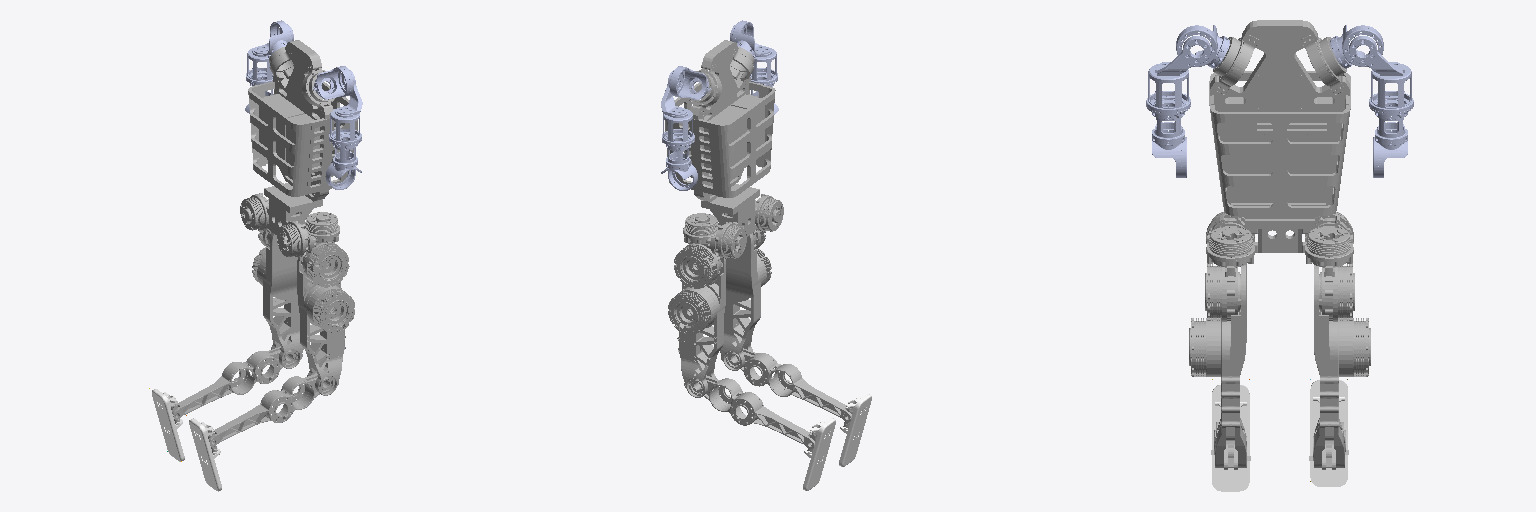
--- Facts derived from the render (not from the file) ---
Views: 3 orthographic renders of the robot side by side, from view 1: azimuth 30°, elevation 25°; view 2: azimuth 150°, elevation 25°; view 3: azimuth 270°, elevation 25°.
Robot: hunter — 28 links, 27 joints (18 revolute, 9 fixed); root link base_link; default pose: joints at zero except 2 at the middle of their limits (leg_l4_joint = 1.3, leg_r4_joint = 1.3).
Links seen in each view (by area): view 1: base_link, leg_r3_link, leg_l3_link, leg_l4_link, leg_r4_link, leg_r2_link, zarm_r2_link, leg_l6_link, leg_r6_link, zarm_r3_link, zarm_r1_link, leg_r1_link (+2 smaller); view 2: base_link, leg_l3_link, leg_r3_link, leg_l4_link, leg_r4_link, leg_l2_link, zarm_l2_Link, leg_l6_link, leg_r6_link, zarm_l3_Link, zarm_l1_Link, leg_l1_link (+2 smaller); view 3: base_link, leg_r3_link, leg_l3_link, zarm_r2_link, zarm_l2_Link, leg_r1_link, leg_l1_link, leg_r6_link, zarm_r3_link, zarm_l3_Link, leg_l2_link, leg_r2_link (+3 smaller).
Link boxes in pixels (<box>): base_link: <box>240,40,357,256</box>; leg_r3_link: <box>297,256,354,395</box>; leg_l3_link: <box>252,221,305,368</box>; leg_l4_link: <box>172,346,302,419</box>; leg_r4_link: <box>209,373,338,446</box>; leg_r2_link: <box>301,242,349,287</box>; zarm_r2_link: <box>329,70,362,146</box>; leg_l6_link: <box>152,389,184,461</box>; leg_r6_link: <box>189,418,221,491</box>; zarm_r3_link: <box>325,134,361,189</box>; zarm_r1_link: <box>313,66,353,99</box>; leg_r1_link: <box>305,212,339,247</box>; base_link: <box>665,40,783,258</box>; leg_l3_link: <box>668,258,725,397</box>; leg_r3_link: <box>718,223,771,370</box>; leg_l4_link: <box>684,375,814,448</box>; leg_r4_link: <box>721,348,851,421</box>; leg_l2_link: <box>674,243,721,288</box>; zarm_l2_Link: <box>661,70,694,146</box>; leg_l6_link: <box>803,418,835,490</box>; leg_r6_link: <box>839,394,871,466</box>; zarm_l3_Link: <box>661,135,697,190</box>; zarm_l1_Link: <box>669,66,710,99</box>; leg_l1_link: <box>683,213,717,248</box>; base_link: <box>1206,20,1353,252</box>; leg_r3_link: <box>1189,264,1246,467</box>; leg_l3_link: <box>1314,265,1370,467</box>; zarm_r2_link: <box>1146,36,1210,114</box>; zarm_l2_Link: <box>1349,36,1413,114</box>; leg_r1_link: <box>1206,226,1254,276</box>; leg_l1_link: <box>1305,226,1353,276</box>; leg_r6_link: <box>1212,385,1249,491</box>; zarm_r3_link: <box>1152,99,1186,177</box>; zarm_l3_Link: <box>1373,99,1407,177</box>; leg_l2_link: <box>1319,263,1354,321</box>; leg_r2_link: <box>1205,263,1240,321</box>.
Size in the robot's own frame: 0.5378 by 0.5706 by 1.27 metres.
19 mesh visuals loaded from 19 distinct referenced files (19 binary STL).

robot.urdf — hunter:
<?xml version="1.0" encoding="utf-8"?>
<robot name="hunter">

<!--  <link name="world" />-->
<!--  <joint name ="weld" type="fixed">-->
<!--    <parent link="world"/>-->
<!--    <child link="base_link"/>-->
<!--    <origin xyz="0 0 2.1"/>-->
<!--  </joint>-->

  <gazebo>
    <plugin name="gazebo_ros_control" filename="libhunter_bipedal_hw_sim.so">
      <robotNamespace>/</robotNamespace>
      <robotParam>legged_robot_description</robotParam>
      <robotSimType>legged_gazebo/LeggedHWSim</robotSimType>
    </plugin>
  </gazebo>

  <gazebo>
    <plugin filename="libgazebo_ros_p3d.so" name="p3d_base_controller">
      <alwaysOn>true</alwaysOn>
      <updateRate>500.0</updateRate>
      <bodyName>base_link</bodyName>
      <topicName>ground_truth/state</topicName>
      <gaussianNoise>0</gaussianNoise>
      <frameName>world</frameName>
      <xyzOffsets>0 0 0</xyzOffsets>
      <rpyOffsets>0 0 0</rpyOffsets>
    </plugin>
  </gazebo>

  <link name="base_link">
    <inertial>
      <origin
              xyz="-0.02983954 0.00086547 0.14856051"
              rpy="0 0 0" />
      <mass
              value="18.945426" />
      <inertia
              ixx="0.49280384"
              ixy="-0.00038292"
              ixz="-0.04951313"
              iyy="0.42814074"
              iyz="-0.00020145"
              izz="0.15555181" />
    </inertial>
    <visual>
      <origin xyz="0 0 0" rpy="0 0 0" />
      <geometry>
        <mesh
                filename="package://legged_hunter_description/meshes/base_link.STL" />
      </geometry>
      <material name="">
        <color rgba="0.75294 0.75294 0.75294 1" />
      </material>
    </visual>
    <collision>
      <origin xyz="-0.01 0 0.206" rpy="0 0 0" />
      <geometry>
        <box size="0.184 0.15 0.2" /><!--宽 长 高!-->
      </geometry>
    </collision>
  </link>

  <!-- Imu is fixed to the base link -->
  <joint name="imu_joint" type="fixed">
    <origin rpy="0. 0. 0." xyz="0. 0. 0"/>
    <parent link="base_link"/>
    <child link="imu_link"/>
  </joint>
  <!-- Imu link -->
  <link name="imu_link">
    <inertial>
      <mass value="0.01"/>
      <origin rpy="0 0 0" xyz="0 0 0"/>
      <inertia ixx="0.000001" ixy="0" ixz="0" iyy="0.000001" iyz="0" izz="0.000001"/>
    </inertial>
    <visual>
      <origin rpy="0 0 0" xyz="0 0 0"/>
      <geometry>
        <box size="0.015 0.015 0.004"/>
      </geometry>
    </visual>
    <material name="orange">
      <color rgba="255 108 10 255"/>
    </material>
  </link>
  <gazebo reference="imu_joint">
    <disableFixedJointLumping>true</disableFixedJointLumping>
  </gazebo>

  <!-- ************************************************************ -->
  <!-- ************************ Left Leg ************************** -->
  <!-- ************************************************************ -->

  <!-- ************* part 1 *************** -->
  <joint name="leg_l1_joint" type="revolute">
    <origin xyz="-0.08 0.105 -0.0675" rpy="0 0 0" />
    <parent link="base_link" />
    <child link="leg_l1_link" />
    <axis xyz="1 0 0" />
    <dynamics damping="0.00" friction="0.2"/>
    <limit lower="-0.5" upper="0.5" effort="300" velocity="18" />
  </joint>
  <link name="leg_l1_link">
    <inertial>
      <origin
              xyz="0.10000784 -0.00009881 0.01657766"
              rpy="0 0 0" />
      <mass
              value="1.54" />
      <inertia
              ixx="0.00139323"
              ixy="-0.00000019"
              ixz="-0.00000048"
              iyy="0.00140374"
              iyz="0.00000650"
              izz="0.00173658" />
    </inertial>
    <visual>
      <origin xyz="0 0 0" rpy="0 0 0" />
      <geometry>
        <mesh filename="package://legged_hunter_description/meshes/leg_l1_link.STL" />
      </geometry>
      <material name="">
        <color rgba="0.75294 0.75294 0.75294 1" />
      </material>
    </visual>
    <collision>
      <origin xyz="-0.019 -0.001 0" rpy="1.57 0 1.57" />
      <geometry>
        <box size="0.006 0.007 0.0155" />
      </geometry>
    </collision>
  </link>

  <!-- ************* part 2 *************** -->
  <joint name="leg_l2_joint" type="revolute">
    <origin xyz="0.080001 0 0" rpy="0 0 0" />
    <parent link="leg_l1_link" />
    <child link="leg_l2_link" />
    <axis xyz="0 0 1" />
    <dynamics damping="0.00" friction="0.2"/>
    <limit lower="-0.6" upper="0.6" effort="300" velocity="18" />
  </joint>
  <link name="leg_l2_link">
    <inertial>
      <origin
              xyz="0.00007811 0.00423442 -0.08994449"
              rpy="0 0 0" />
      <mass
              value="2.7" />
      <inertia
              ixx="0.00335768"
              ixy="-0.00001160"
              ixz="0.00000108"
              iyy="0.00323199"
              iyz="-0.00000465"
              izz="0.00335678" />
    </inertial>
    <visual>
      <origin xyz="0 0 0" rpy="0 0 0" />
      <geometry>
        <mesh filename="package://legged_hunter_description/meshes/leg_l2_link.STL" />
      </geometry>
      <material name="">
        <color rgba="0.75294 0.75294 0.75294 1" />
      </material>
    </visual>
    <collision>
      <origin xyz="0 0.0046 -0.057" rpy="1.57 0 0" />
      <geometry>
        <cylinder length="0.00146" radius="0.0025"/>
      </geometry>
    </collision>
  </link>

  <!-- ************* part 3 *************** -->
  <joint name="leg_l3_joint" type="revolute">
    <origin xyz="0 0 -0.090001" rpy="0 0 0" />
    <parent link="leg_l2_link" />
    <child link="leg_l3_link" />
    <axis xyz="0 1 0" />
    <dynamics damping="0.00" friction="0.2"/>
    <limit lower="-1.5" upper="0.5" effort="300" velocity="17" />
  </joint>
  <link name="leg_l3_link">
    <inertial>
      <origin
              xyz="0.00039619 0.04119274 -0.15289538"
              rpy="0 0 0" />
      <mass
              value="4.8" />
      <inertia
              ixx="0.04694541"
              ixy="0.00009678"
              ixz="0.00068599"
              iyy="0.04241315"
              iyz="-0.00410792"
              izz="0.01237341" />
    </inertial>
    <visual>
      <origin xyz="0 0 0" rpy="0 0 0" />
      <geometry>
        <mesh filename="package://legged_hunter_description/meshes/leg_l3_link.STL" />
      </geometry>
      <material name="">
        <color rgba="0.75294 0.75294 0.75294 1" />
      </material>
    </visual>
    <collision>
      <origin xyz="0.015 0.02 -0.1" rpy="1.57 0 0" />
      <geometry>
        <box size="0.006 0.025 0.005" />
      </geometry>
    </collision>
  </link>

  <!-- ************* part 4 *************** -->
  <joint name="leg_l4_joint" type="revolute">
    <origin xyz="0 0 -0.38" rpy="0 0 0" />
    <parent link="leg_l3_link" />
    <child link="leg_l4_link" />
    <axis xyz="0 1 0" />
    <dynamics damping="0.00" friction="0.2"/>
    <limit lower="0.1" upper="2.5" effort="300" velocity="17" />
  </joint>
  <link name="leg_l4_link">
    <inertial>
      <origin
              xyz="0.00066117 0.00034461 -0.14038088"
              rpy="0 0 0" />
      <mass
              value="2.9" />
      <inertia
              ixx="0.04319157"
              ixy="0.00000750"
              ixz="-0.00073877"
              iyy="0.04385624"
              iyz="0.00049349"
              izz="0.00190256" />
    </inertial>
    <visual>
      <origin xyz="0 0 0" rpy="0 0 0" />
      <geometry>
        <mesh filename="package://legged_hunter_description/meshes/leg_l4_link.STL" />
      </geometry>
      <material name="">
        <color rgba="0.75294 0.75294 0.75294 1" />
      </material>
    </visual>
    <collision>
      <origin xyz="0 0 -0.18" rpy="1.57 0 0" />
      <geometry>
        <box size="0.0041 0.025 0.003" />
      </geometry>
    </collision>
    <collision>
      <origin xyz="-0.011 0.012 -0.079" rpy="1.57 0 0" />
      <geometry>
        <cylinder length="0.007" radius="0.0034"/>
      </geometry>
    </collision>
  </link>

  <!-- ************* part 5 *************** -->
  <joint name="leg_l5_joint" type="revolute">
    <origin xyz="0 0 -0.38" rpy="0 0 0" />
    <parent link="leg_l4_link" />
    <child link="leg_l5_link" />
    <axis xyz="0 1 0" />
    <dynamics damping="0.02" friction="0.02"/>
    <limit lower="-1.5" upper="1.5" effort="300" velocity="15.49" />
  </joint>
  <link name="leg_l5_link">
    <inertial>
      <origin xyz="-0.00518023 0.00000000 -0.00246757" rpy="0 0 0" />
      <mass value="0.125" />
      <inertia ixx="0.00000749" ixy="0.00000000" ixz="-0.00000017" iyy="0.00006652" iyz="0.00000000" izz="0.00006206" />
    </inertial>
    <visual>
      <origin xyz="0 0 0" rpy="0 0 0" />
      <geometry>
        <mesh filename="package://legged_hunter_description/meshes/leg_l5_link.STL" />
      </geometry>
      <material name="">
        <color rgba="0.75294 0.75294 0.75294 1" />
      </material>
    </visual>
    <!--collision>
      <origin xyz="0.0 0 -0.0" rpy="1.57 0 0" />
      <geometry>
        <cylinder length="0.007" radius="0.001"/>
      </geometry>
    </collision-->
  </link>
  <!-- ************* part 6 *************** -->
  <joint name="leg_l6_joint" type="revolute">
    <origin xyz="0 0 0" rpy="0 0 0" />
    <parent link="leg_l5_link" />
    <child link="leg_l6_link" />
    <axis xyz="1 0 0" />
    <dynamics damping="0.02" friction="0.02"/>
    <limit lower="-1.5" upper="1.5" effort="300" velocity="15.49" />
  </joint>
  <link name="leg_l6_link">
    <inertial>
      <origin xyz="0.01218965 0.00000000 -0.01997971" rpy="0 0 0" />
      <mass value="0.56" />
      <inertia ixx="0.00030271" ixy="0.00000000" ixz="0.00012599" iyy="0.00193585" iyz="0.00000000" izz="0.00200345" />
    </inertial>
    <visual>
      <origin xyz="0 0 0" rpy="0 0 0" />
      <geometry>
        <mesh filename="package://legged_hunter_description/meshes/leg_l6_link.STL" />
      </geometry>
      <material name="">
        <color rgba="1 1 1 1" />
      </material>
    </visual>
    <collision>
      <origin xyz="0.03 0 -0.033" rpy="0 0 0" />
      <geometry>
        <box size="0.230 0.08 0.015" />
      </geometry>
    </collision>
  </link>
  <!-- ************* fixed joint & link *************** -->
  <joint name="leg_l6_fixed_1" type="fixed">
    <origin xyz="0.13 -0.04 -0.038" rpy="0 0 0" />
    <parent link="leg_l6_link" />
    <child link="leg_l_f1_link" />
  </joint>
  <link name="leg_l_f1_link">
    <inertial>
      <mass value="0.01" />
      <inertia ixx="0.000001" ixy="0" ixz="0" iyy="0.000001" iyz="0" izz="0.000001" />
    </inertial>
    <visual>
      <origin rpy="0 0 0" xyz="0 0 0"/>
      <geometry>
        <sphere radius="0.001"/>
      </geometry>
    </visual>
    <collision>
      <origin rpy="0 0 0" xyz="0 0 0"/>
      <geometry>
        <sphere radius="0.001"/>
      </geometry>
    </collision>
  </link>

  <joint name="leg_l6_fixed_2" type="fixed">
    <origin xyz="-0.09 -0.04 -0.038" rpy="0 0 0" />
    <parent link="leg_l6_link" />
    <child link="leg_l_f2_link" />
  </joint>
  <link name="leg_l_f2_link">
    <inertial>
      <mass value="0.01" />
      <inertia ixx="0.000001" ixy="0" ixz="0" iyy="0.000001" iyz="0" izz="0.000001" />
    </inertial>
    <visual>
      <origin rpy="0 0 0" xyz="0 0 0"/>
      <geometry>
        <sphere radius="0.001"/>
      </geometry>
    </visual>
    <collision>
      <origin rpy="0 0 0" xyz="-0 0 0"/>
      <geometry>
        <sphere radius="0.001"/>
      </geometry>
    </collision>
  </link>


  <joint name="leg_l6_fixed_3" type="fixed">
    <origin xyz="0.13 0.04 -0.038" rpy="0 0 0" />
    <parent link="leg_l6_link" />
    <child link="leg_l_f3_link" />
  </joint>
  <link name="leg_l_f3_link">
    <inertial>
      <mass value="0.01" />
      <inertia ixx="0.000001" ixy="0" ixz="0" iyy="0.000001" iyz="0" izz="0.000001" />
    </inertial>
    <visual>
      <origin rpy="0 0 0" xyz="0 0 0"/>
      <geometry>
        <sphere radius="0.001"/>
      </geometry>
    </visual>
    <collision>
      <origin rpy="0 0 0" xyz="0 0 0"/>
      <geometry>
        <sphere radius="0.001"/>
      </geometry>
    </collision>
  </link>

  <joint name="leg_l6_fixed_4" type="fixed">
    <origin xyz="-0.09 0.04 -0.038" rpy="0 0 0" />
    <parent link="leg_l6_link" />
    <child link="leg_l_f4_link" />
  </joint>
  <link name="leg_l_f4_link">
    <inertial>
      <mass value="0.01" />
      <inertia ixx="0.000001" ixy="0" ixz="0" iyy="0.000001" iyz="0" izz="0.000001" />
    </inertial>
    <visual>
      <origin rpy="0 0 0" xyz="0 0 0"/>
      <geometry>
        <sphere radius="0.001"/>
      </geometry>
    </visual>
    <collision>
      <origin rpy="0 0 0" xyz="-0 0 0"/>
      <geometry>
        <sphere radius="0.001"/>
      </geometry>
    </collision>
  </link>

  <!-- ************* gazebo reference *************** -->
  <gazebo reference="leg_l1_link">
    <mu1>0.6</mu1>
    <mu2>0.6</mu2>
    <self_collide>1</self_collide>
  </gazebo>
  <gazebo reference="leg_l2_link">
    <mu1>0.6</mu1>
    <mu2>0.6</mu2>
    <self_collide>1</self_collide>
  </gazebo>
  <gazebo reference="leg_l3_link">
    <mu1>0.6</mu1>
    <mu2>0.6</mu2>
    <self_collide>1</self_collide>
  </gazebo>
  <gazebo reference="leg_l4_link">
    <mu1>0.6</mu1>
    <mu2>0.6</mu2>
    <self_collide>1</self_collide>
  </gazebo>
  <gazebo reference="leg_l5_link">
    <mu1>0.6</mu1>
    <mu2>0.6</mu2>
  </gazebo>
  <gazebo reference="leg_l6_link">
    <mu1>1.5</mu1>
    <mu2>1.5</mu2>
    <self_collide>1</self_collide>
    <kp value="1000000.0"/>
    <kd value="100.0"/>
    <maxVel>1.0</maxVel>
    <minDepth>0.00</minDepth>
  </gazebo>
  <gazebo reference="leg_l_f1_link">
    <mu1>1.5</mu1>
    <mu2>1.5</mu2>
    <self_collide>1</self_collide>
    <kp value="1000000.0"/>
    <kd value="100.0"/>
    <maxVel>1.0</maxVel>
    <minDepth>0.00</minDepth>
  </gazebo>
  <gazebo reference="leg_l_f2_link">
    <mu1>1.5</mu1>
    <mu2>1.5</mu2>
    <self_collide>1</self_collide>
    <kp value="1000000.0"/>
    <kd value="100.0"/>
    <maxVel>1.0</maxVel>
    <minDepth>0.00</minDepth>
  </gazebo>
  <gazebo reference="leg_l_f3_link">
    <mu1>1.5</mu1>
    <mu2>1.5</mu2>
    <self_collide>1</self_collide>
    <kp value="1000000.0"/>
    <kd value="100.0"/>
    <maxVel>1.0</maxVel>
    <minDepth>0.00</minDepth>
  </gazebo>
  <gazebo reference="leg_l_f4_link">
    <mu1>1.5</mu1>
    <mu2>1.5</mu2>
    <self_collide>1</self_collide>
    <kp value="1000000.0"/>
    <kd value="100.0"/>
    <maxVel>1.0</maxVel>
    <minDepth>0.00</minDepth>
  </gazebo>

  <!-- ************* transmission *************** -->
  <transmission name="leg_l1_tran">
    <type>transmission_interface/SimpleTransmission</type>
    <joint name="leg_l1_joint">
      <hardwareInterface>hardware_interface/EffortJointInterface</hardwareInterface>
    </joint>
    <actuator name="leg_l1_motor">
      <hardwareInterface>hardware_interface/EffortJointInterface</hardwareInterface>
      <mechanicalReduction>1</mechanicalReduction>
      <maxVelocity>2.87</maxVelocity><!-- 85rpm -->
      <maxEffort>182</maxEffort><!-- 36Nm -->
    </actuator>
  </transmission>

  <transmission name="leg_l2_tran">
    <type>transmission_interface/SimpleTransmission</type>
    <joint name="leg_l2_joint">
      <hardwareInterface>hardware_interface/EffortJointInterface</hardwareInterface>
    </joint>
    <actuator name="leg_l2_motor">
      <hardwareInterface>hardware_interface/EffortJointInterface</hardwareInterface>
      <mechanicalReduction>1</mechanicalReduction>
      <maxVelocity>2.87</maxVelocity><!-- 160rpm -->
      <maxEffort>182</maxEffort><!-- 94Nm -->
    </actuator>
  </transmission>

  <transmission name="leg_l3_tran">
    <type>transmission_interface/SimpleTransmission</type>
    <joint name="leg_l3_joint">
      <hardwareInterface>hardware_interface/EffortJointInterface</hardwareInterface>
    </joint>
    <actuator name="leg_l3_motor">
      <hardwareInterface>hardware_interface/EffortJointInterface</hardwareInterface>
      <mechanicalReduction>1</mechanicalReduction>
      <maxVelocity>2.6545</maxVelocity><!-- 160rpm -->
      <maxEffort>278</maxEffort><!-- 94Nm -->
    </actuator>
  </transmission>

  <transmission name="leg_l4_tran">
    <type>transmission_interface/SimpleTransmission</type>
    <joint name="leg_l4_joint">
      <hardwareInterface>hardware_interface/EffortJointInterface</hardwareInterface>
    </joint>
    <actuator name="leg_l4_motor">
      <hardwareInterface>hardware_interface/EffortJointInterface</hardwareInterface>
      <mechanicalReduction>1</mechanicalReduction>
      <maxVelocity>2.6545</maxVelocity><!-- 85rpm -->
      <maxEffort>278</maxEffort><!-- 36Nm -->
    </actuator>
  </transmission>

  <transmission name="leg_l5_tran">
    <type>transmission_interface/SimpleTransmission</type>
    <joint name="leg_l5_joint">
      <hardwareInterface>hardware_interface/EffortJointInterface</hardwareInterface>
    </joint>
    <actuator name="leg_l5_motor">
      <hardwareInterface>hardware_interface/EffortJointInterface</hardwareInterface>
      <mechanicalReduction>1</mechanicalReduction>
    </actuator>
  </transmission>

  <transmission name="leg_l6_tran">
    <type>transmission_interface/SimpleTransmission</type>
    <joint name="leg_l6_joint">
      <hardwareInterface>hardware_interface/EffortJointInterface</hardwareInterface>
    </joint>
    <actuator name="leg_l6_motor">
      <hardwareInterface>hardware_interface/EffortJointInterface</hardwareInterface>
      <mechanicalReduction>1</mechanicalReduction>
    </actuator>
  </transmission>
  <!-- ************************************************************ -->
  <!-- ************************ Right Leg ************************** -->
  <!-- ************************************************************ -->

  <!-- ************* part 1 *************** -->
  <joint name="leg_r1_joint" type="revolute">
    <origin xyz="-0.08 -0.105 -0.0675" rpy="0 0 0" />
    <parent link="base_link" />
    <child link="leg_r1_link" />
    <axis xyz="1 0 0" />
    <dynamics damping="0.00" friction="0.2"/>
    <limit lower="-0.5" upper="0.5" effort="300" velocity="18" />
  </joint>
  <link name="leg_r1_link">
    <inertial>
      <origin
              xyz="0.07867925 -0.00007201 0.00877160"
              rpy="0 0 0" />
      <mass
              value="1.54" />
      <inertia
              ixx="0.00139323"
              ixy="-0.00000019"
              ixz="0.00000048"
              iyy="0.00140374"
              iyz="-0.00000650"
              izz="0.00173658" />
    </inertial>
    <visual>
      <origin xyz="0 0 0" rpy="0 0 0" />
      <geometry>
        <mesh filename="package://legged_hunter_description/meshes/leg_r1_link.STL" />
      </geometry>
      <material name="">
        <color rgba="0.75294 0.75294 0.75294 1" />
      </material>
    </visual>
    <collision>
      <origin xyz="-0.019 -0.001 0" rpy="1.57 0 1.57" />
      <geometry>
        <box size="0.006 0.007 0.0155" />
      </geometry>
    </collision>
  </link>

  <!-- ************* part 2 *************** -->
  <joint name="leg_r2_joint" type="revolute">
    <origin xyz="0.080001 0 0" rpy="0 0 0" />
    <parent link="leg_r1_link" />
    <child link="leg_r2_link" />
    <axis xyz="0 0 1" />
    <dynamics damping="0.00" friction="0.2"/>
    <limit lower="-0.6" upper="0.6" effort="300" velocity="18" />
  </joint>
  <link name="leg_r2_link">
    <inertial>
      <origin
              xyz="-0.00007811 -0.00423442 -0.15499595"
              rpy="0 0 0" />
      <mass
              value="2.7" />
      <inertia
              ixx="0.00335768"
              ixy="-0.00001160"
              ixz="-0.00000108"
              iyy="0.00323199"
              iyz="0.00000465"
              izz="0.00335678" />
    </inertial>
    <visual>
      <origin xyz="0 0 0" rpy="0 0 0" />
      <geometry>
        <mesh filename="package://legged_hunter_description/meshes/leg_r2_link.STL" />
      </geometry>
      <material name="">
        <color rgba="0.75294 0.75294 0.75294 1" />
      </material>
    </visual>
    <collision>
      <origin xyz="0 -0.0033 -0.057" rpy="1.57 0 0" />
      <geometry>
        <cylinder length="0.00146" radius="0.0015"/>
      </geometry>
    </collision>
  </link>

  <!-- ************* part 3 *************** -->
  <joint name="leg_r3_joint" type="revolute">
    <origin xyz="0 0 -0.090001" rpy="0 0 0" />
    <parent link="leg_r2_link" />
    <child link="leg_r3_link" />
    <axis xyz="0 1 0" />
    <dynamics damping="0.00" friction="0.2"/>
    <limit lower="-1.5" upper="0.5" effort="300" velocity="17" />
  </joint>
  <link name="leg_r3_link">
    <inertial>
      <origin
              xyz="0.00044061 -0.04113251 -0.15499595"
              rpy="0 0 0" />
      <mass
              value="4.8" />
      <inertia
              ixx="0.04859117"
              ixy="-0.00008785"
              ixz="0.00069103"
              iyy="0.04399962"
              iyz="0.00445708"
              izz="0.01238287" />
    </inertial>
    <visual>
      <origin xyz="0 0 0" rpy="0 0 0" />
      <geometry>
        <mesh filename="package://legged_hunter_description/meshes/leg_r3_link.STL" />
      </geometry>
      <material name="">
        <color rgba="0.75294 0.75294 0.75294 1" />
      </material>
    </visual>
    <collision>
      <origin xyz="0.015 -0.02 -0.1" rpy="1.57 0 0" />
      <geometry>
        <box size="0.006 0.025 0.005" />
      </geometry>
    </collision>
  </link>

  <!-- ************* part 4 *************** -->
  <joint name="leg_r4_joint" type="revolute">
    <origin xyz="0 0 -0.38" rpy="0 0 0" />
    <parent link="leg_r3_link" />
    <child link="leg_r4_link" />
    <axis xyz="0 1 0" />
    <dynamics damping="0.00" friction="0.2"/>
    <limit lower="0.1" upper="2.5" effort="300" velocity="17" />
  </joint>
  <link name="leg_r4_link">
    <inertial>
      <origin
              xyz="0.00066117 -0.00034461 -0.14038088"
              rpy="0 0 0" />
      <mass
              value="2.9" />
      <inertia
              ixx="0.04319157"
              ixy="-0.00000750"
              ixz="-0.00073877"
              iyy="0.04385624"
              iyz="-0.00049349"
              izz="0.00190256" />
    </inertial>
    <visual>
      <origin xyz="0 0 0" rpy="0 0 0" />
      <geometry>
        <mesh filename="package://legged_hunter_description/meshes/leg_r4_link.STL" />
      </geometry>
      <material name="">
        <color rgba="0.75294 0.75294 0.75294 1" />
      </material>
    </visual>
    <collision>
      <origin xyz="0 0 -0.18" rpy="1.57 0 0" />
      <geometry>
        <box size="0.0041 0.025 0.003" />
      </geometry>
    </collision>
    <collision>
      <origin xyz="-0.011 -0.012 -0.079" rpy="1.57 0 0" />
      <geometry>
        <cylinder length="0.07" radius="0.034"/>
      </geometry>
    </collision>
  </link>

  <!-- ************* part 5 *************** -->
  <joint name="leg_r5_joint" type="revolute">
    <origin xyz="0 0 -0.38" rpy="0 0 0" />
    <parent link="leg_r4_link" />
    <child link="leg_r5_link" />
    <axis xyz="0 1 0" />
    <dynamics damping="0.02" friction="0.02"/>
    <limit lower="-1.5" upper="1.5" effort="300" velocity="15.49" />
  </joint>
  <link name="leg_r5_link">
    <inertial>
      <origin xyz="-0.00518023 0.000000 -0.00246757" rpy="0 0 0" />
      <mass value="0.125" />
      <inertia ixx="0.00000749" ixy="0.00000000" ixz="-0.00000017" iyy="0.00006652" iyz="0.00000000" izz="0.00006206" />
    </inertial>
    <visual>
      <origin xyz="0 0 0" rpy="0 0 0" />
      <geometry>
        <mesh filename="package://legged_hunter_description/meshes/leg_r5_link.STL" />
      </geometry>
      <material name="">
        <color rgba="0.75294 0.75294 0.75294 1" />
      </material>
    </visual>
    <!--collision>
      <origin xyz="0.0 0 -0.0" rpy="1.57 0 0" />
      <geometry>
        <cylinder length="0.007" radius="0.001"/>
      </geometry>
    </collision-->
  </link>


  <!-- ************* part 6 *************** -->

  <joint name="leg_r6_joint" type="revolute">
    <origin xyz="0 0 0" rpy="0 0 0" />
    <parent link="leg_r5_link" />
    <child link="leg_r6_link" />
    <axis xyz="1 0 0" />
    <dynamics damping="0.02" friction="0.02"/>
    <limit lower="-1.5" upper="1.5" effort="300" velocity="15.49" />
  </joint>
  <link name="leg_r6_link">
    <inertial>
      <origin xyz="0.01218965 0.00000000 -0.01997971" rpy="0 0 0" />
      <mass value="0.56" />
      <inertia ixx="0.00030271" ixy="0.00000000" ixz="0.00012599" iyy="0.00193585" iyz="0.00000000" izz="0.00200345" />
    </inertial>
    <visual>
      <origin xyz="0 0 0" rpy="0 0 0" />
      <geometry>
        <mesh filename="package://legged_hunter_description/meshes/leg_r6_link.STL" />
      </geometry>
      <material name="">
        <color rgba="1 1 1 1" />
      </material>
    </visual>
    <collision>
      <origin xyz="0.03 0 -0.033" rpy="0 0 0" />
      <geometry>
        <box size="0.230 0.08 0.015" />
      </geometry>
    </collision>
  </link>

  <!-- ************* fixed joint *************** -->
  <joint name="leg_r6_fixed_1" type="fixed">
    <origin xyz="0.13 -0.04 -0.038" rpy="0 0 0" />
    <parent link="leg_r6_link" />
    <child link="leg_r_f1_link" />
  </joint>
  <link name="leg_r_f1_link">
    <inertial>
      <mass value="0.01" />
      <inertia ixx="0.000001" ixy="0" ixz="0" iyy="0.000001" iyz="0" izz="0.000001" />
    </inertial>
    <visual>
      <origin rpy="0 0 0" xyz="0 0 0"/>
      <geometry>
        <sphere radius="0.001"/>
      </geometry>
    </visual>
    <collision>
      <origin rpy="0 0 0" xyz="0 0 0"/>
      <geometry>
        <sphere radius="0.001"/>
      </geometry>
    </collision>
  </link>

  <joint name="leg_r6_fixed_2" type="fixed">
    <origin xyz="-0.090 -0.04 -0.038" rpy="0 0 0" />
    <parent link="leg_r6_link" />
    <child link="leg_r_f2_link" />
  </joint>
  <link name="leg_r_f2_link">
    <inertial>
      <mass value="0.01" />
      <inertia ixx="0.000001" ixy="0" ixz="0" iyy="0.000001" iyz="0" izz="0.000001" />
    </inertial>
    <visual>
      <origin rpy="0 0 0" xyz="0 0 0"/>
      <geometry>
        <sphere radius="0.001"/>
      </geometry>
    </visual>
    <collision>
      <origin rpy="0 0 0" xyz="0 0 0"/>
      <geometry>
        <sphere radius="0.001"/>
      </geometry>
    </collision>
  </link>

  <joint name="leg_r6_fixed_3" type="fixed">
    <origin xyz="0.13 0.04 -0.038" rpy="0 0 0" />
    <parent link="leg_r6_link" />
    <child link="leg_r_f3_link" />
  </joint>
  <link name="leg_r_f3_link">
    <inertial>
      <mass value="0.01" />
      <inertia ixx="0.000001" ixy="0" ixz="0" iyy="0.000001" iyz="0" izz="0.000001" />
    </inertial>
    <visual>
      <origin rpy="0 0 0" xyz="0 0 0"/>
      <geometry>
        <sphere radius="0.001"/>
      </geometry>
    </visual>
    <collision>
      <origin rpy="0 0 0" xyz="0 0 0"/>
      <geometry>
        <sphere radius="0.001"/>
      </geometry>
    </collision>
  </link>

  <joint name="leg_r6_fixed_4" type="fixed">
    <origin xyz="-0.090 0.04 -0.038" rpy="0 0 0" />
    <parent link="leg_r6_link" />
    <child link="leg_r_f4_link" />
  </joint>
  <link name="leg_r_f4_link">
    <inertial>
      <mass value="0.01" />
      <inertia ixx="0.000001" ixy="0" ixz="0" iyy="0.000001" iyz="0" izz="0.000001" />
    </inertial>
    <visual>
      <origin rpy="0 0 0" xyz="0 0 0"/>
      <geometry>
        <sphere radius="0.001"/>
      </geometry>
    </visual>
    <collision>
      <origin rpy="0 0 0" xyz="0 0 0"/>
      <geometry>
        <sphere radius="0.001"/>
      </geometry>
    </collision>
  </link>


  <!-- ************* gazebo reference *************** -->
  <gazebo reference="leg_r1_link">
    <mu1>0.6</mu1>
    <mu2>0.6</mu2>
    <self_collide>1</self_collide>
  </gazebo>
  <gazebo reference="leg_r2_link">
    <mu1>0.6</mu1>
    <mu2>0.6</mu2>
    <self_collide>1</self_collide>
  </gazebo>
  <gazebo reference="leg_r3_link">
    <mu1>0.6</mu1>
    <mu2>0.6</mu2>
    <self_collide>1</self_collide>
  </gazebo>
  <gazebo reference="leg_r4_link">
    <mu1>0.6</mu1>
    <mu2>0.6</mu2>
    <self_collide>1</self_collide>
  </gazebo>
  <gazebo reference="leg_r5_link">
    <mu1>0.6</mu1>
    <mu2>0.6</mu2>
  </gazebo>
  <gazebo reference="leg_r6_link">
    <mu1>1.5</mu1>
    <mu2>1.5</mu2>
    <self_collide>1</self_collide>
    <kp value="1000000.0"/>
    <kd value="100.0"/>
    <maxVel>1.0</maxVel>
    <minDepth>0.00</minDepth>
  </gazebo>

  <gazebo reference="leg_r_f1_link">
    <mu1>1.5</mu1>
    <mu2>1.5</mu2>
    <self_collide>1</self_collide>
    <kp value="1000000.0"/>
    <kd value="100.0"/>
    <maxVel>1.0</maxVel>
    <minDepth>0.00</minDepth>
  </gazebo>
  <gazebo reference="leg_r_f2_link">
    <mu1>1.5</mu1>
    <mu2>1.5</mu2>
    <self_collide>1</self_collide>
    <kp value="1000000.0"/>
    <kd value="100.0"/>
    <maxVel>1.0</maxVel>
    <minDepth>0.00</minDepth>
  </gazebo>
  <gazebo reference="leg_r_f3_link">
    <mu1>1.5</mu1>
    <mu2>1.5</mu2>
    <self_collide>1</self_collide>
    <kp value="1000000.0"/>
    <kd value="100.0"/>
    <maxVel>1.0</maxVel>
    <minDepth>0.00</minDepth>
  </gazebo>
  <gazebo reference="leg_r_f4_link">
    <mu1>1.5</mu1>
    <mu2>1.5</mu2>
    <self_collide>1</self_collide>
    <kp value="1000000.0"/>
    <kd value="100.0"/>
    <maxVel>1.0</maxVel>
    <minDepth>0.00</minDepth>
  </gazebo>


  <!-- ************* gazebo transmission *************** -->
  <transmission name="leg_r1_tran">
    <type>transmission_interface/SimpleTransmission</type>
    <joint name="leg_r1_joint">
      <hardwareInterface>hardware_interface/EffortJointInterface</hardwareInterface>
    </joint>
    <actuator name="leg_r1_motor">
      <hardwareInterface>hardware_interface/EffortJointInterface</hardwareInterface>
      <mechanicalReduction>1</mechanicalReduction>
      <maxVelocity>2.87</maxVelocity><!-- 85rpm -->
      <maxEffort>182</maxEffort><!-- 36Nm -->
    </actuator>
  </transmission>

  <transmission name="leg_r2_tran">
    <type>transmission_interface/SimpleTransmission</type>
    <joint name="leg_r2_joint">
      <hardwareInterface>hardware_interface/EffortJointInterface</hardwareInterface>
    </joint>
    <actuator name="leg_r2_motor">
      <hardwareInterface>hardware_interface/EffortJointInterface</hardwareInterface>
      <mechanicalReduction>1</mechanicalReduction>
      <maxVelocity>2.87</maxVelocity><!-- 160rpm -->
      <maxEffort>182</maxEffort><!-- 94Nm -->
    </actuator>
  </transmission>

  <transmission name="leg_r3_tran">
    <type>transmission_interface/SimpleTransmission</type>
    <joint name="leg_r3_joint">
      <hardwareInterface>hardware_interface/EffortJointInterface</hardwareInterface>
    </joint>
    <actuator name="leg_r3_motor">
      <hardwareInterface>hardware_interface/EffortJointInterface</hardwareInterface>
      <mechanicalReduction>1</mechanicalReduction>
      <maxVelocity>2.6545</maxVelocity><!-- 160rpm -->
      <maxEffort>278</maxEffort><!-- 94Nm -->
    </actuator>
  </transmission>

  <transmission name="leg_r4_tran">
    <type>transmission_interface/SimpleTransmission</type>
    <joint name="leg_r4_joint">
      <hardwareInterface>hardware_interface/EffortJointInterface</hardwareInterface>
    </joint>
    <actuator name="leg_r4_motor">
      <hardwareInterface>hardware_interface/EffortJointInterface</hardwareInterface>
      <mechanicalReduction>1</mechanicalReduction>
      <maxVelocity>2.6545</maxVelocity><!-- 85rpm -->
      <maxEffort>278</maxEffort><!-- 36Nm -->
    </actuator>
  </transmission>

  <transmission name="leg_r5_tran">
    <type>transmission_interface/SimpleTransmission</type>
    <joint name="leg_r5_joint">
      <hardwareInterface>hardware_interface/EffortJointInterface</hardwareInterface>
    </joint>
    <actuator name="leg_r5_motor">
      <hardwareInterface>hardware_interface/EffortJointInterface</hardwareInterface>
      <mechanicalReduction>1</mechanicalReduction>
    </actuator>
  </transmission>

  <transmission name="leg_r6_tran">
    <type>transmission_interface/SimpleTransmission</type>
    <joint name="leg_r6_joint">
      <hardwareInterface>hardware_interface/EffortJointInterface</hardwareInterface>
    </joint>
    <actuator name="leg_r6_motor">
      <hardwareInterface>hardware_interface/EffortJointInterface</hardwareInterface>
      <mechanicalReduction>1</mechanicalReduction>
    </actuator>
  </transmission>


  <!-- ************************************************************ -->
  <!-- ************************ Left zarm ************************** -->
  <!-- ************************************************************ -->
  <link name="zarm_l1_Link">
    <inertial>
      <origin
              xyz="0.00035297 0.0054003 0.054195"
              rpy="0 0 0" />
      <mass value="0.9535" />
      <inertia
              ixx="0.0012763"
              ixy="5.61E-06"
              ixz="1.12E-06"
              iyy="0.0012519"
              iyz="3.58E-05"
              izz="0.0010663" />
    </inertial>
    <visual>
      <origin xyz="0 0 0"
              rpy="0 0 0" />
      <geometry>
        <mesh filename="package://legged_hunter_description/meshes/zarm_l1_Link.STL" />
      </geometry>
      <material name="">
        <color rgba="0.79216 0.81961 0.93333 1" />
      </material>
    </visual>
  </link>
  <joint name="zarm_l1_joint"
         type="revolute">
    <origin xyz="0 0.12279 0.40213"
            rpy="0 -1.0472 -1.5708" />
    <parent link="base_link" />
    <child link="zarm_l1_Link" />
    <axis xyz="0 0 1" />
    <limit lower="-3.14"
           upper="3.14"
           effort="90"
           velocity="3.14" />
  </joint>
  <link name="zarm_l2_Link">
    <inertial>
      <origin xyz="0.055439 -0.090985 -0.032863"
              rpy="0 0 0" />
      <mass value="1.2" />
      <inertia
              ixx="0.0025886"
              ixy="0.00049571"
              ixz="0.00023309"
              iyy="0.001704"
              iyz="-0.00049499"
              izz="0.002642" />
    </inertial>
    <visual>
      <origin xyz="0 0 0"
              rpy="0 0 0" />
      <geometry>
        <mesh filename="package://legged_hunter_description/meshes/zarm_l2_Link.STL" />
      </geometry>
      <material name="">
        <color rgba="0.79216 0.81961 0.93333 1" />
      </material>
    </visual>
  </link>
  <joint name="zarm_l2_joint"
         type="revolute">
    <origin xyz="0 0.039 0.063"
            rpy="1.5708 -1.0472 3.1416" />
    <parent link="zarm_l1_Link" />
    <child link="zarm_l2_Link" />
    <axis xyz="0 0 1" />
    <limit lower="0"
           upper="2.093"
           effort="90"
           velocity="3.14" />
  </joint>
  <link name="zarm_l3_Link">
    <inertial>
      <origin xyz="0.0048486 -0.00016012 0.11131"
              rpy="0 0 0" />
      <mass value="1.0637" />
      <inertia
              ixx="0.0025964"
              ixy="5.74E-06"
              ixz="-9.7E-05"
              iyy="0.002625"
              iyz="-8.2E-07"
              izz="0.0011718" />
    </inertial>
    <visual>
      <origin xyz="0 0 0"
              rpy="0 0 0" />
      <geometry>
        <mesh filename="package://legged_hunter_description/meshes/zarm_l3_Link.STL" />
      </geometry>
      <material name="">
        <color rgba="0.79216 0.81961 0.93333 1" />
      </material>
    </visual>
  </link>
  <joint name="zarm_l3_joint"
         type="revolute">
    <origin xyz="0.060456 -0.152 -0.039"
            rpy="1.5708 0 0" />
    <parent link="zarm_l2_Link" />
    <child link="zarm_l3_Link" />
    <axis xyz="0 0 1" />
    <limit lower="-3.14"
           upper="3.14"
           effort="90"
           velocity="3.14" />
  </joint>
  <!-- <link name="zarm_l4_Link">
    <inertial>
      <origin xyz="2.47E-05 -0.084392 -0.031049"
              rpy="0 0 0" />
      <mass value="0.5554" />
      <inertia
              ixx="0.0011728"
              ixy="-4.9E-07"
              ixz="3.1E-07"
              iyy="0.00038472"
              iyz="-0.0002729"
              izz="0.0010442" />
    </inertial>
    <visual>
      <origin xyz="0 0 0"
              rpy="0 0 0" />
      <geometry>
        <mesh filename="package://legged_hunter_description/meshes/zarm_l4_Link.STL" />
      </geometry>
      <material name="">
        <color rgba="0.79216 0.81961 0.93333 1" />
      </material>
    </visual>
  </link>
  <joint name="zarm_l4_joint"
         type="revolute">
    <origin xyz="-0.039 0 0.123"
            rpy="-1.5708 1.5708 1.5708" />
    <parent link="zarm_l3_Link" />
    <child link="zarm_l4_Link" />
    <axis xyz="0 0 1" />
    <limit lower="-2"
           upper="2"
           effort="90"
           velocity="3.14" />
  </joint>
  <link name="zarm_l5_Link">
    <inertial>
      <origin xyz="0.0077864 -0.00025521 0.047106"
              rpy="0 0 0" />
      <mass value="0.5729" />
      <inertia
              ixx="0.00065916"
              ixy="9.54E-06"
              ixz="-6E-05"
              iyy="0.00092404"
              iyz="1.58E-06"
              izz="0.00063648" />
    </inertial>
    <visual>
      <origin xyz="0 0 0"
              rpy="0 0 0" />
      <geometry>
        <mesh filename="package://legged_hunter_description/meshes/zarm_l5_Link.STL" />
      </geometry>
      <material name="">
        <color rgba="0.79216 0.81961 0.93333 1" />
      </material>
    </visual>
  </link>
  <joint name="zarm_l5_joint"
         type="revolute">
    <origin xyz="0 -0.1461 -0.039"
            rpy="1.5708 1.5708 0" />
    <parent link="zarm_l4_Link" />
    <child link="zarm_l5_Link" />
    <axis xyz="0 0 1" />
    <limit lower="-3.14"
           upper="3.14"
           effort="90"
           velocity="3.14" />
  </joint>
  <link name="zarm_l6_Link">
    <inertial>
      <origin xyz="0 0.0066539 0.031141"
              rpy="0 0 0" />
      <mass value="0.4316" />
      <inertia
              ixx="0.00039901"
              ixy="-4.2E-07"
              ixz="-2.4E-07"
              iyy="0.00022416"
              iyz="-1.03E-06"
              izz="0.00038958" />
    </inertial>
    <visual>
      <origin xyz="0 0 0"
              rpy="0 0 0" />
      <geometry>
        <mesh filename="package://legged_hunter_description/meshes/zarm_l6_Link.STL" />
      </geometry>
      <material name="">
        <color rgba="0.79216 0.81961 0.93333 1" />
      </material>
    </visual>
  </link>
  <joint name="zarm_l6_joint"
         type="revolute">
    <origin xyz="0.031 0 0.1289"
            rpy="0 -1.5708 0" />
    <parent link="zarm_l5_Link" />
    <child link="zarm_l6_Link" />
    <axis xyz="0 0 1" />
    <limit lower="-1.047"
           upper="1.047"
           effort="90"
           velocity="3.14" />
  </joint>
  <link name="zarm_l7_Link">
    <inertial>
      <origin xyz="0 0.028046 0.034646"
              rpy="0 0 0" />
      <mass value="0.23075" />
      <inertia
              ixx="0.00039565"
              ixy="0"
              ixz="0"
              iyy="0.0003459"
              iyz="1.9E-05"
              izz="0.000148" />
    </inertial>
    <visual>
      <origin xyz="0 0 0"
              rpy="0 0 0" />
      <geometry>
        <mesh filename="package://legged_hunter_description/meshes/zarm_l7_Link.STL" />
      </geometry>
      <material name="">
        <color rgba="0.79216 0.81961 0.93333 1" />
      </material>
    </visual>
  </link>
  <joint name="zarm_l7_joint"
         type="revolute">
    <origin xyz="0 -0.0374 0.031"
            rpy="1.5708 -1.5708 0" />
    <parent link="zarm_l6_Link" />
    <child link="zarm_l7_Link" />
    <axis xyz="0 0 1" />
    <limit lower="-1.57"
           upper="1.57"
           effort="90"
           velocity="3.14" />
  </joint>
  <joint name="zarm_l_fixed_1" type="fixed">
    <origin xyz="0.0 0.0 0.0" rpy="0 0 0" />
    <parent link="zarm_l3_Link" />
    <child link="zarm_l_f1_link" />
  </joint>
  <link name="zarm_l_f1_link">
    <inertial>
      <mass value="0.01" />
      <inertia ixx="0.000001" ixy="0" ixz="0" iyy="0.000001" iyz="0" izz="0.000001" />
    </inertial>
    <visual>
      <origin rpy="0 0 0" xyz="0 0 0"/>
      <geometry>
        <sphere radius="0.001"/>
      </geometry>
    </visual>
    <collision>
      <origin rpy="0 0 0" xyz="0 0 0"/>
      <geometry>
        <sphere radius="0.001"/>
      </geometry>
    </collision>
  </link> -->


  <gazebo reference="zarm_l1_Link">
    <mu1>0.6</mu1>
    <mu2>0.6</mu2>
    <self_collide>1</self_collide>
  </gazebo>
  <gazebo reference="zarm_l2_Link">
    <mu1>0.6</mu1>
    <mu2>0.6</mu2>
    <self_collide>1</self_collide>
  </gazebo>
  <gazebo reference="zarm_l3_Link">
    <mu1>0.6</mu1>
    <mu2>0.6</mu2>
    <self_collide>1</self_collide>
  </gazebo>
  <!-- <gazebo reference="zarm_l4_Link">
    <mu1>0.6</mu1>
    <mu2>0.6</mu2>
    <self_collide>1</self_collide>
  </gazebo>
  <gazebo reference="zarm_l5_Link">
    <mu1>0.6</mu1>
    <mu2>0.6</mu2>
    <self_collide>1</self_collide>
  </gazebo>
  <gazebo reference="zarm_l6_Link">
    <mu1>0.6</mu1>
    <mu2>0.6</mu2>
    <self_collide>1</self_collide>
  </gazebo>
  <gazebo reference="zarm_l7_Link">
    <mu1>0.6</mu1>
    <mu2>0.6</mu2>
    <self_collide>1</self_collide>
  </gazebo>
  <gazebo reference="zarm_l_f1_link">
    <mu1>1.5</mu1>
    <mu2>1.5</mu2>
    <self_collide>1</self_collide>
    <kp value="1000000.0"/>
    <kd value="100.0"/>
    <maxVel>1.0</maxVel>
    <minDepth>0.00</minDepth>
  </gazebo> -->

  <transmission name="zarm_l1_tran">
    <type>transmission_interface/SimpleTransmission</type>
    <joint name="zarm_l1_joint">
      <hardwareInterface>hardware_interface/EffortJointInterface</hardwareInterface>
    </joint>
    <actuator name="zarm_l1_motor">
      <hardwareInterface>hardware_interface/EffortJointInterface</hardwareInterface>
      <mechanicalReduction>1</mechanicalReduction>
      <maxVelocity>2.87</maxVelocity>
      <maxEffort>182</maxEffort>
    </actuator>
  </transmission>

  <transmission name="zarm_l2_tran">
    <type>transmission_interface/SimpleTransmission</type>
    <joint name="zarm_l2_joint">
      <hardwareInterface>hardware_interface/EffortJointInterface</hardwareInterface>
    </joint>
    <actuator name="zarm_l2_motor">
      <hardwareInterface>hardware_interface/EffortJointInterface</hardwareInterface>
      <mechanicalReduction>1</mechanicalReduction>
      <maxVelocity>2.87</maxVelocity>
      <maxEffort>182</maxEffort>
    </actuator>
  </transmission>

  <transmission name="zarm_l3_tran">
    <type>transmission_interface/SimpleTransmission</type>
    <joint name="zarm_l3_joint">
      <hardwareInterface>hardware_interface/EffortJointInterface</hardwareInterface>
    </joint>
    <actuator name="zarm_l3_motor">
      <hardwareInterface>hardware_interface/EffortJointInterface</hardwareInterface>
      <mechanicalReduction>1</mechanicalReduction>
      <maxVelocity>2.6545</maxVelocity>
      <maxEffort>278</maxEffort>
    </actuator>
  </transmission>

  <!-- <transmission name="zarm_l4_tran">
    <type>transmission_interface/SimpleTransmission</type>
    <joint name="zarm_l4_joint">
      <hardwareInterface>hardware_interface/EffortJointInterface</hardwareInterface>
    </joint>
    <actuator name="zarm_l4_motor">
      <hardwareInterface>hardware_interface/EffortJointInterface</hardwareInterface>
      <mechanicalReduction>1</mechanicalReduction>
      <maxVelocity>2.6545</maxVelocity>
      <maxEffort>278</maxEffort>
    </actuator>
  </transmission>

  <transmission name="zarm_l5_tran">
    <type>transmission_interface/SimpleTransmission</type>
    <joint name="zarm_l5_joint">
      <hardwareInterface>hardware_interface/EffortJointInterface</hardwareInterface>
    </joint>
    <actuator name="zarm_l5_motor">
      <hardwareInterface>hardware_interface/EffortJointInterface</hardwareInterface>
      <mechanicalReduction>1</mechanicalReduction>
      <maxVelocity>2.6545</maxVelocity>
      <maxEffort>278</maxEffort>
    </actuator>
  </transmission>

  <transmission name="zarm_l6_tran">
    <type>transmission_interface/SimpleTransmission</type>
    <joint name="zarm_l6_joint">
      <hardwareInterface>hardware_interface/EffortJointInterface</hardwareInterface>
    </joint>
    <actuator name="zarm_l6_motor">
      <hardwareInterface>hardware_interface/EffortJointInterface</hardwareInterface>
      <mechanicalReduction>1</mechanicalReduction>
      <maxVelocity>2.6545</maxVelocity>
      <maxEffort>278</maxEffort>
    </actuator>
  </transmission>

  <transmission name="zarm_l7_tran">
    <type>transmission_interface/SimpleTransmission</type>
    <joint name="zarm_l7_joint">
      <hardwareInterface>hardware_interface/EffortJointInterface</hardwareInterface>
    </joint>
    <actuator name="zarm_l7_motor">
      <hardwareInterface>hardware_interface/EffortJointInterface</hardwareInterface>
      <mechanicalReduction>1</mechanicalReduction>
      <maxVelocity>2.6545</maxVelocity>
      <maxEffort>278</maxEffort>
    </actuator>
  </transmission> -->

  <!-- ************************************************************ -->
  <!-- ************************ Right zarm ************************** -->
  <!-- ************************************************************ -->
  <link name="zarm_r1_link">
    <inertial>
      <origin xyz="0.00035297 0.0054003 0.054195"
              rpy="0 0 0" />
      <mass value="0.9535" />
      <inertia
              ixx="0.0012763"
              ixy="5.61E-06"
              ixz="-1.12E-06"
              iyy="0.0012519"
              iyz="-3.58E-05"
              izz="0.0010663" />
    </inertial>
    <visual>
      <origin xyz="0 0 0"
              rpy="0 0 0" />
      <geometry>
        <mesh filename="package://legged_hunter_description/meshes/zarm_r1_link.STL" />
      </geometry>
      <material name="">
        <color rgba="0.79216 0.81961 0.93333 1" />
      </material>
    </visual>
  </link>
  <joint name="zarm_r1_joint"
         type="revolute">
    <origin xyz="0 -0.12279 0.40213"
            rpy="0 -1.0472 1.5708" />
    <parent link="base_link" />
    <child link="zarm_r1_link" />
    <axis xyz="0 0 1" />
    <limit lower="-3.14"
           upper="3.14"
           effort="90"
           velocity="3.14" />
  </joint>
  <link name="zarm_r2_link">
    <inertial>
      <origin xyz="-0.055353 -0.091038 -0.032863"
              rpy="0 0 0" />
      <mass value="1.2" />
      <inertia
              ixx="0.0025867"
              ixy="-0.00050202"
              ixz="-0.00023665"
              iyy="0.0017031"
              iyz="-0.00052466"
              izz="0.0026449" />
    </inertial>
    <visual>
      <origin xyz="0 0 0"
              rpy="0 0 0" />
      <geometry>
        <mesh filename="package://legged_hunter_description/meshes/zarm_r2_link.STL" />
      </geometry>
      <material name="">
        <color rgba="0.79216 0.81961 0.93333 1" />
      </material>
    </visual>
  </link>
  <joint name="zarm_r2_joint"
         type="revolute">
    <origin xyz="0 -0.039 0.063"
            rpy="1.5708 1.0472 0" />
    <parent link="zarm_r1_link" />
    <child link="zarm_r2_link" />
    <axis xyz="0 0 1" />
    <limit lower="-2.093"
           upper="0"
           effort="90"
           velocity="3.14" />
  </joint>
  <link name="zarm_r3_link">
    <inertial>
      <origin xyz="-0.0048486 0.00016012 0.11131"
              rpy="0 0 0" />
      <mass value="1.0637" />
      <inertia
              ixx="0.0025964"
              ixy="5.74E-06"
              ixz="9.7E-05"
              iyy="0.002625"
              iyz="8.2E-07"
              izz="0.0011718" />
    </inertial>
    <visual>
      <origin xyz="0 0 0"
              rpy="0 0 0" />
      <geometry>
        <mesh filename="package://legged_hunter_description/meshes/zarm_r3_link.STL" />
      </geometry>
      <material name="">
        <color rgba="0.79216 0.81961 0.93333 1" />
      </material>
    </visual>
  </link>
  <joint name="zarm_r3_joint"
         type="revolute">
    <origin xyz="-0.060456 -0.152 -0.039"
            rpy="1.5708 0 0" />
    <parent link="zarm_r2_link" />
    <child link="zarm_r3_link" />
    <axis xyz="0 0 1" />
    <limit lower="-3.14"
           upper="3.14"
           effort="90"
           velocity="3.14" />
  </joint>
  <!-- <link name="zarm_r4_link">
    <inertial>
      <origin xyz="2.56E-05 -0.084392 -0.031048"
              rpy="0 0 0" />
      <mass value="0.5554" />
      <inertia
              ixx="0.0011725"
              ixy="-1.75E-06"
              ixz="5.1E-07"
              iyy="0.00038472"
              iyz="-0.00027023"
              izz="0.0010444" />
    </inertial>
    <visual>
      <origin xyz="0 0 0"
              rpy="0 0 0" />
      <geometry>
        <mesh filename="package://legged_hunter_description/meshes/zarm_r4_link.STL" />
      </geometry>
      <material name="">
        <color rgba="0.79216 0.81961 0.93333 1" />
      </material>
    </visual>
  </link>
  <joint name="zarm_r4_joint"
         type="revolute">
    <origin xyz="0.039 0 0.123"
            rpy="-1.5708 -1.5708 -1.5708" />
    <parent link="zarm_r3_link" />
    <child link="zarm_r4_link" />
    <axis xyz="0 0 1" />
    <limit lower="-2"
           upper="2"
           effort="90"
           velocity="3.14" />
  </joint>
  <link name="zarm_r5_link">
    <inertial>
      <origin xyz="0.0077864 0.00025521 0.047106"
              rpy="0 0 0" />
      <mass value="0.5729" />
      <inertia
              ixx="0.00065916"
              ixy="9.54E-06"
              ixz="-6E-05"
              iyy="0.00092404"
              iyz="1.58E-06"
              izz="0.00063648" />
    </inertial>
    <visual>
      <origin xyz="0 0 0"
              rpy="0 0 0" />
      <geometry>
        <mesh filename="package://legged_hunter_description/meshes/zarm_r5_link.STL" />
      </geometry>
      <material name="">
        <color rgba="0.79216 0.81961 0.93333 1" />
      </material>
    </visual>
  </link>
  <joint name="zarm_r5_joint"
         type="revolute">
    <origin xyz="0 -0.1461 -0.039"
            rpy="1.5708 -1.5708 0" />
    <parent link="zarm_r4_link" />
    <child link="zarm_r5_link" />
    <axis xyz="0 0 1" />
    <limit lower="-3.14"
           upper="3.14"
           effort="90"
           velocity="3.14" />
  </joint>
  <link name="zarm_r6_link">
    <inertial>
      <origin xyz="0 -0.006654 0.03114"
              rpy="0 0 0" />
      <mass value="0.4316" />
      <inertia
              ixx="0.00039901"
              ixy="-4.2E-07"
              ixz="2.4E-07"
              iyy="0.00022416"
              iyz="1.03E-06"
              izz="0.00038958" />
    </inertial>
    <visual>
      <origin xyz="0 0 0"
              rpy="0 0 0" />
      <geometry>
        <mesh filename="package://legged_hunter_description/meshes/zarm_r6_link.STL" />
      </geometry>
      <material name="">
        <color rgba="0.79216 0.81961 0.93333 1" />
      </material>
    </visual>
  </link>
  <joint name="zarm_r6_joint"
         type="revolute">
    <origin xyz="-0.031 0 0.1289"
            rpy="3.1416 -1.5708 0" />
    <parent link="zarm_r5_link" />
    <child link="zarm_r6_link" />
    <axis xyz="0 0 1" />
    <limit lower="-1.047"
           upper="1.047"
           effort="90"
           velocity="3.14" />
  </joint>
  <link name="zarm_r7_link">
    <inertial>
      <origin xyz="-0.00078364 0.028035 0.034646"
              rpy="0 0 0" />
      <mass value="0.23075" />
      <inertia
              ixx="0.00039565"
              ixy="1.4E-06"
              ixz="-5.31E-07"
              iyy="0.0003459"
              iyz="1.9E-05"
              izz="0.000148" />
    </inertial>
    <visual>
      <origin xyz="0 0 0"
              rpy="0 0 0" />
      <geometry>
        <mesh filename="package://legged_hunter_description/meshes/zarm_r7_link.STL" />
      </geometry>
      <material name="">
        <color rgba="0.79216 0.81961 0.93333 1" />
      </material>
    </visual>
  </link>
  <joint name="zarm_r7_joint"
         type="revolute">
    <origin xyz="0 -0.0374 0.031"
            rpy="1.5708 -1.5708 0" />
    <parent link="zarm_r6_link" />
    <child link="zarm_r7_link" />
    <axis xyz="0 0 1" />
    <limit lower="-1.57"
           upper="1.57"
           effort="90"
           velocity="3.14" />
  </joint>
  <joint name="zarm_r_fixed_1" type="fixed">
    <origin xyz="0.28 0.0 0.0" rpy="0 0 0" />
    <parent link="zarm_r3_link" />
    <child link="zarm_r_f1_link" />
  </joint>
  <link name="zarm_r_f1_link">
    <inertial>
      <mass value="0.01" />
      <inertia ixx="0.000001" ixy="0" ixz="0" iyy="0.000001" iyz="0" izz="0.000001" />
    </inertial>
    <visual>
      <origin rpy="0 0 0" xyz="0 0 0"/>
      <geometry>
        <sphere radius="0.001"/>
      </geometry>
    </visual>
    <collision>
      <origin rpy="0 0 0" xyz="0 0 0"/>
      <geometry>
        <sphere radius="0.001"/>
      </geometry>
    </collision>
  </link> -->


  <gazebo reference="zarm_r1_link">
    <mu1>0.6</mu1>
    <mu2>0.6</mu2>
    <self_collide>1</self_collide>
  </gazebo>
  <gazebo reference="zarm_r2_link">
    <mu1>0.6</mu1>
    <mu2>0.6</mu2>
    <self_collide>1</self_collide>
  </gazebo>
  <gazebo reference="zarm_r3_link">
    <mu1>0.6</mu1>
    <mu2>0.6</mu2>
    <self_collide>1</self_collide>
  </gazebo>
  <!-- <gazebo reference="zarm_r4_link">
    <mu1>0.6</mu1>
    <mu2>0.6</mu2>
    <self_collide>1</self_collide>
  </gazebo>
  <gazebo reference="zarm_r5_link">
    <mu1>0.6</mu1>
    <mu2>0.6</mu2>
    <self_collide>1</self_collide>
  </gazebo>
  <gazebo reference="zarm_r6_link">
    <mu1>0.6</mu1>
    <mu2>0.6</mu2>
    <self_collide>1</self_collide>
  </gazebo>
  <gazebo reference="zarm_r7_link">
    <mu1>0.6</mu1>
    <mu2>0.6</mu2>
    <self_collide>1</self_collide>
  </gazebo>
  <gazebo reference="zarm_r_f1_link">
    <mu1>1.5</mu1>
    <mu2>1.5</mu2>
    <self_collide>1</self_collide>
    <kp value="1000000.0"/>
    <kd value="100.0"/>
    <maxVel>1.0</maxVel>
    <minDepth>0.00</minDepth>
  </gazebo> -->

  <transmission name="zarm_r1_tran">
    <type>transmission_interface/SimpleTransmission</type>
    <joint name="zarm_r1_joint">
      <hardwareInterface>hardware_interface/EffortJointInterface</hardwareInterface>
    </joint>
    <actuator name="zarm_r1_motor">
      <hardwareInterface>hardware_interface/EffortJointInterface</hardwareInterface>
      <mechanicalReduction>1</mechanicalReduction>
      <maxVelocity>2.87</maxVelocity>
      <maxEffort>182</maxEffort>
    </actuator>
  </transmission>

  <transmission name="zarm_r2_tran">
    <type>transmission_interface/SimpleTransmission</type>
    <joint name="zarm_r2_joint">
      <hardwareInterface>hardware_interface/EffortJointInterface</hardwareInterface>
    </joint>
    <actuator name="zarm_r2_motor">
      <hardwareInterface>hardware_interface/EffortJointInterface</hardwareInterface>
      <mechanicalReduction>1</mechanicalReduction>
      <maxVelocity>2.87</maxVelocity>
      <maxEffort>182</maxEffort>
    </actuator>
  </transmission>

  <transmission name="zarm_r3_tran">
    <type>transmission_interface/SimpleTransmission</type>
    <joint name="zarm_r3_joint">
      <hardwareInterface>hardware_interface/EffortJointInterface</hardwareInterface>
    </joint>
    <actuator name="zarm_r3_motor">
      <hardwareInterface>hardware_interface/EffortJointInterface</hardwareInterface>
      <mechanicalReduction>1</mechanicalReduction>
      <maxVelocity>2.6545</maxVelocity>
      <maxEffort>278</maxEffort>
    </actuator>
  </transmission>

  <!-- <transmission name="zarm_r4_tran">
    <type>transmission_interface/SimpleTransmission</type>
    <joint name="zarm_r4_joint">
      <hardwareInterface>hardware_interface/EffortJointInterface</hardwareInterface>
    </joint>
    <actuator name="zarm_r4_motor">
      <hardwareInterface>hardware_interface/EffortJointInterface</hardwareInterface>
      <mechanicalReduction>1</mechanicalReduction>
      <maxVelocity>2.6545</maxVelocity>
      <maxEffort>278</maxEffort>
    </actuator>
  </transmission>

  <transmission name="zarm_r5_tran">
    <type>transmission_interface/SimpleTransmission</type>
    <joint name="zarm_r5_joint">
      <hardwareInterface>hardware_interface/EffortJointInterface</hardwareInterface>
    </joint>
    <actuator name="zarm_r5_motor">
      <hardwareInterface>hardware_interface/EffortJointInterface</hardwareInterface>
      <mechanicalReduction>1</mechanicalReduction>
      <maxVelocity>2.6545</maxVelocity>
      <maxEffort>278</maxEffort>
    </actuator>
  </transmission>

  <transmission name="zarm_r6_tran">
    <type>transmission_interface/SimpleTransmission</type>
    <joint name="zarm_r6_joint">
      <hardwareInterface>hardware_interface/EffortJointInterface</hardwareInterface>
    </joint>
    <actuator name="zarm_r6_motor">
      <hardwareInterface>hardware_interface/EffortJointInterface</hardwareInterface>
      <mechanicalReduction>1</mechanicalReduction>
      <maxVelocity>2.6545</maxVelocity>
      <maxEffort>278</maxEffort>
    </actuator>
  </transmission>

  <transmission name="zarm_r7_tran">
    <type>transmission_interface/SimpleTransmission</type>
    <joint name="zarm_r7_joint">
      <hardwareInterface>hardware_interface/EffortJointInterface</hardwareInterface>
    </joint>
    <actuator name="zarm_r7_motor">
      <hardwareInterface>hardware_interface/EffortJointInterface</hardwareInterface>
      <mechanicalReduction>1</mechanicalReduction>
      <maxVelocity>2.6545</maxVelocity>
      <maxEffort>278</maxEffort>
    </actuator>
  </transmission> -->

</robot>
